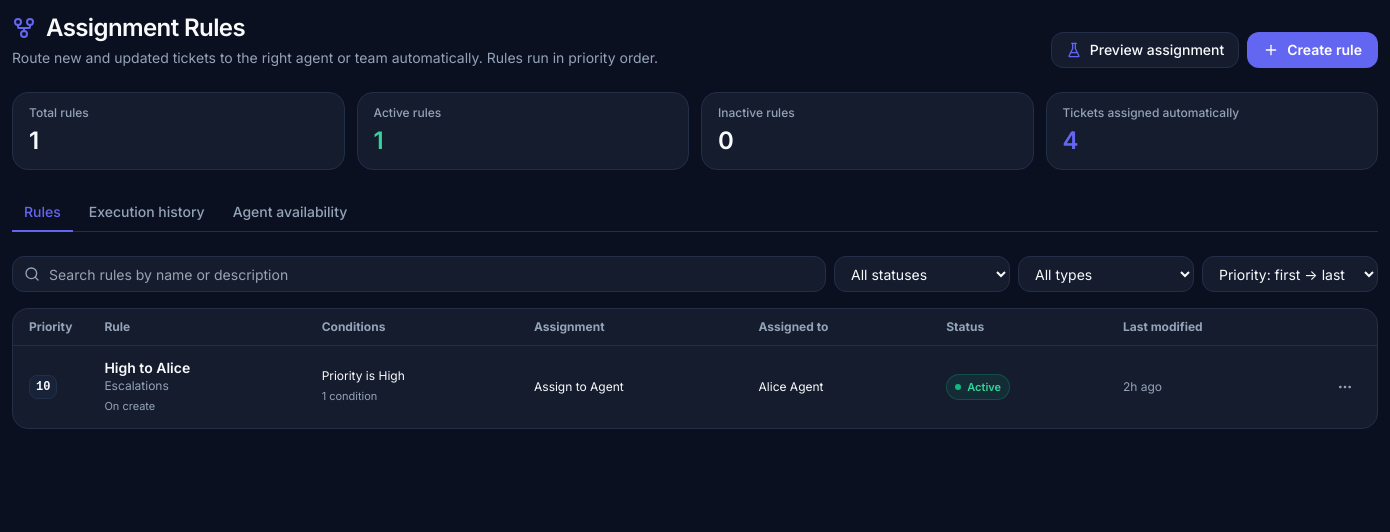
Test: AssignmentRulesPage › switches to the execution history tab
The width and height of the screenshot is (1390, 532).
expect the button "High to Alice" is shown: met, box [104, 358, 190, 378]
Click the tab "Execution history": (147, 213) [77, 194, 217, 232]
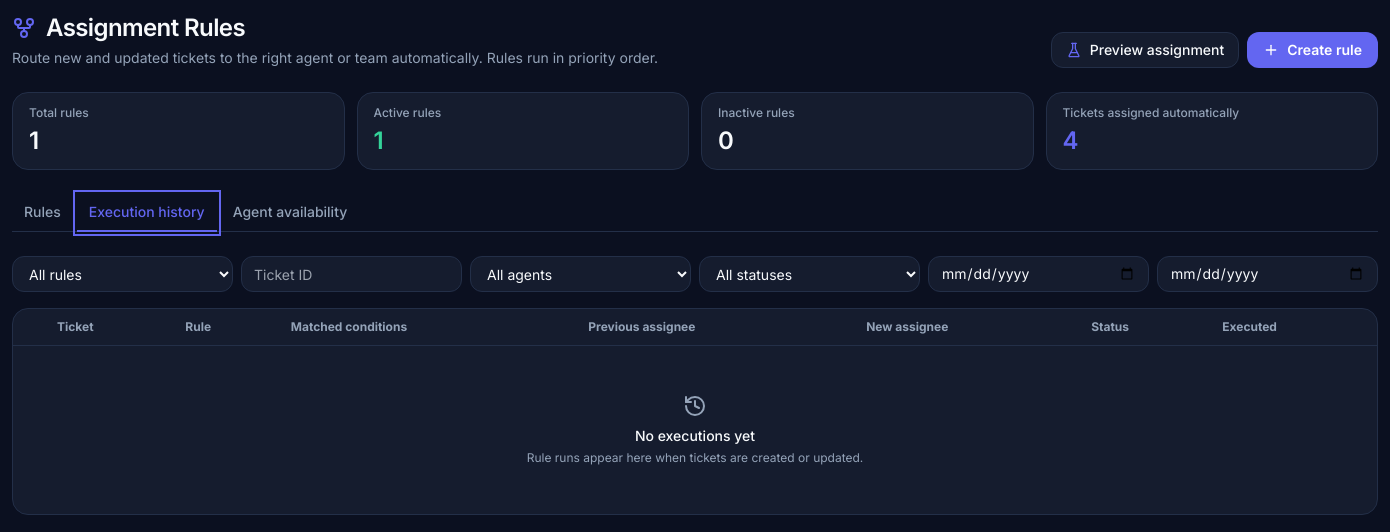
expect the text "No executions yet" is shown: met, box [635, 427, 755, 444]
